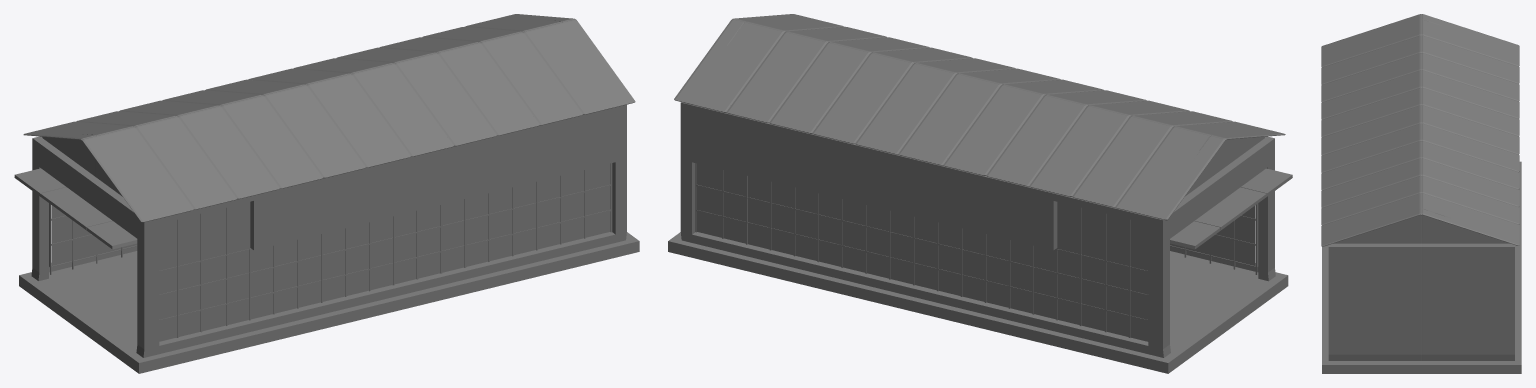
Rendered from RocketHouse.FBX.
3 renders of one model, left to right at view 1: azimuth 30°, elevation 25°; view 2: azimuth 150°, elevation 25°; view 3: azimuth 270°, elevation 25°, orthographic. The views are drawn at different scales.
Parts seen in each view (by area): view 1: BuildingRocket; view 2: BuildingRocket; view 3: BuildingRocket.
Part boxes in pixels (bbox=[...]): BuildingRocket: bbox=[14, 14, 639, 373]; BuildingRocket: bbox=[668, 14, 1292, 373]; BuildingRocket: bbox=[1321, 14, 1521, 373].
Size of the model in its own units: 390 by 138 by 158.
